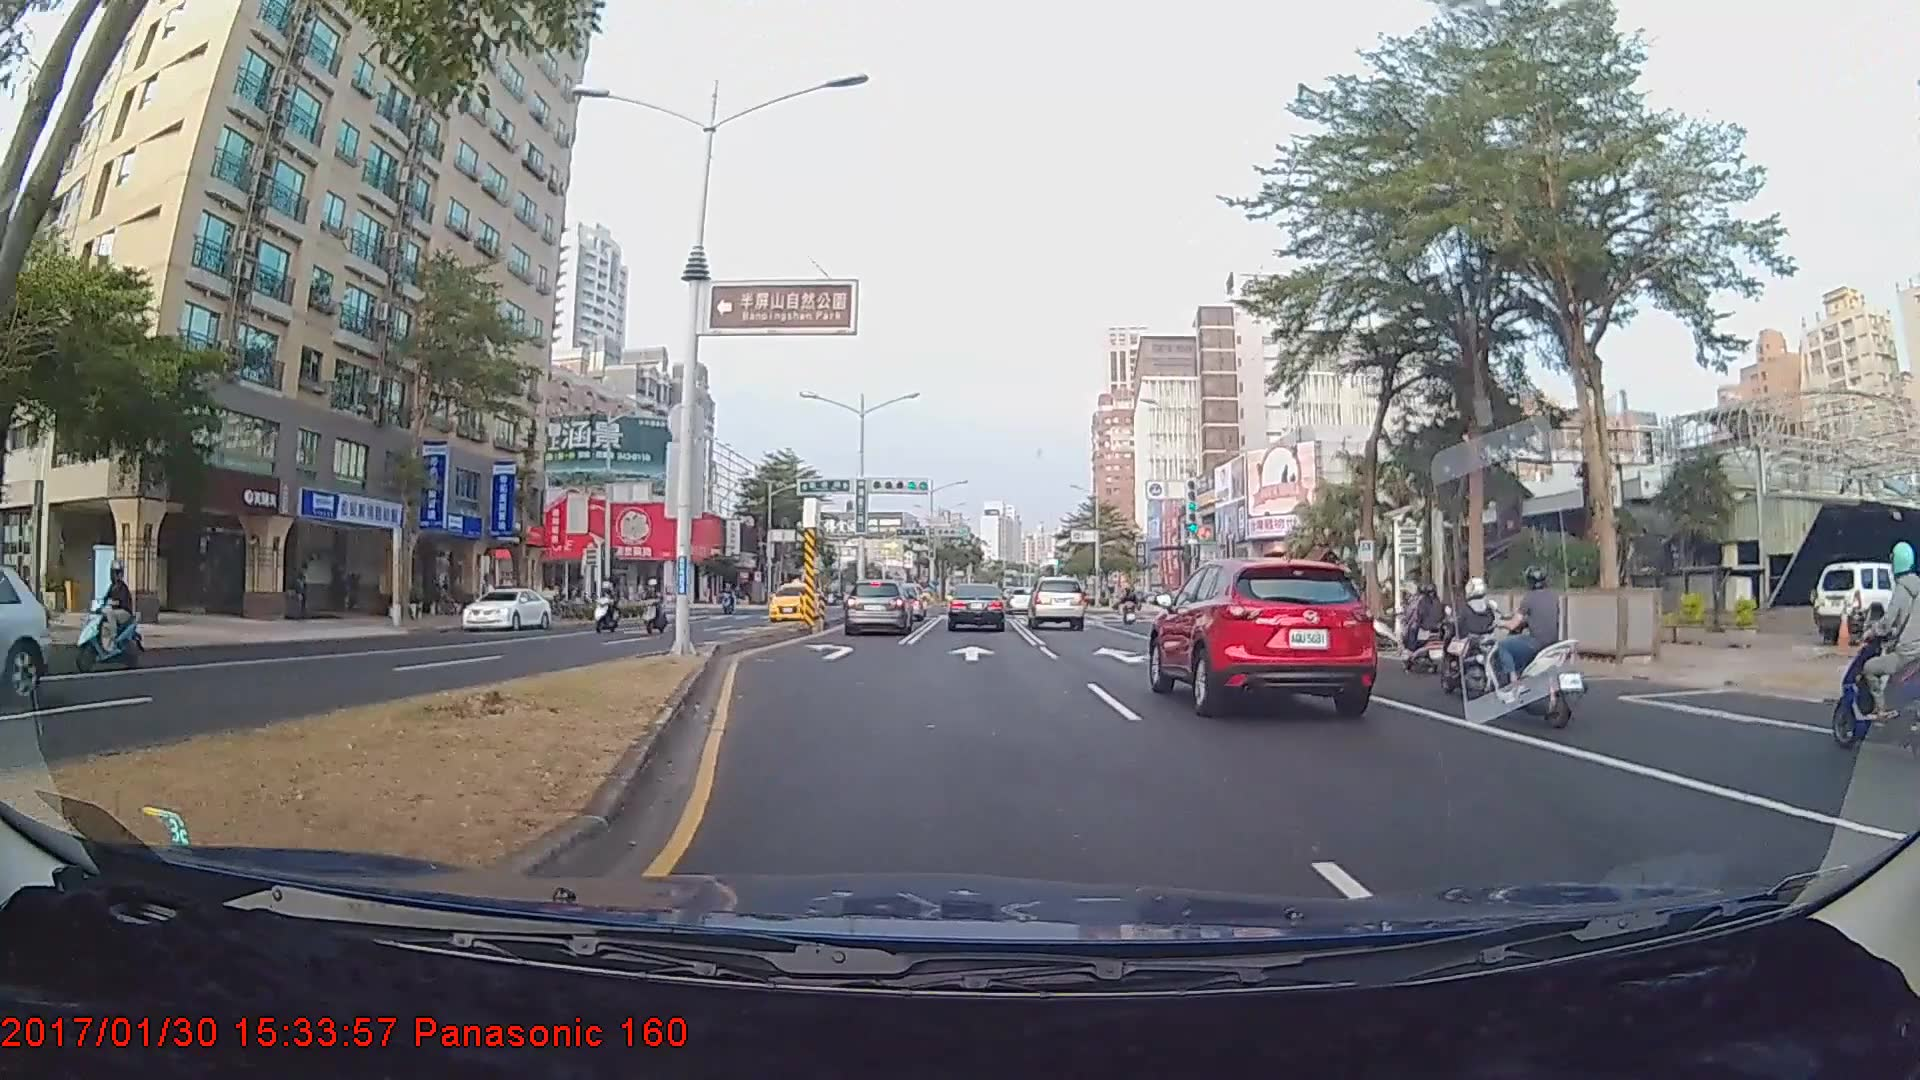rider: (1487, 565, 1597, 729), (1435, 569, 1510, 693), (76, 559, 147, 674), (1395, 576, 1454, 673), (587, 576, 625, 640), (638, 578, 673, 637)
vehicle: (1152, 553, 1378, 714), (1810, 563, 1920, 642), (0, 568, 53, 695), (461, 585, 552, 634), (843, 578, 916, 637), (1027, 575, 1087, 631), (947, 582, 1006, 633), (766, 583, 822, 621)
